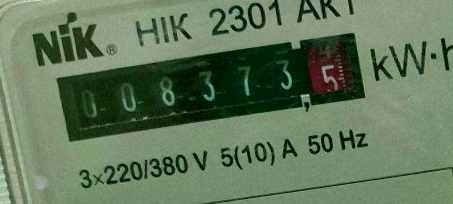0: (76, 83, 101, 122), (115, 76, 139, 115)
3: (270, 53, 298, 93), (193, 65, 219, 104)
4: (314, 39, 335, 62)
5: (318, 60, 341, 92)
7: (233, 58, 256, 99)
8: (154, 70, 180, 109)
screen: (49, 23, 375, 155)
